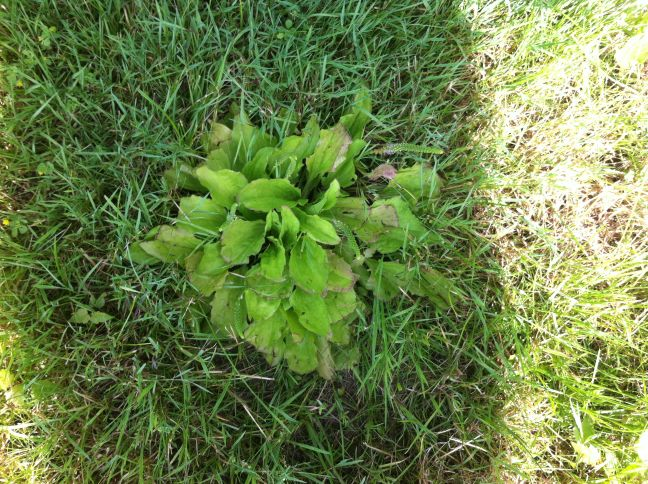weed1: (148, 103, 445, 376)
